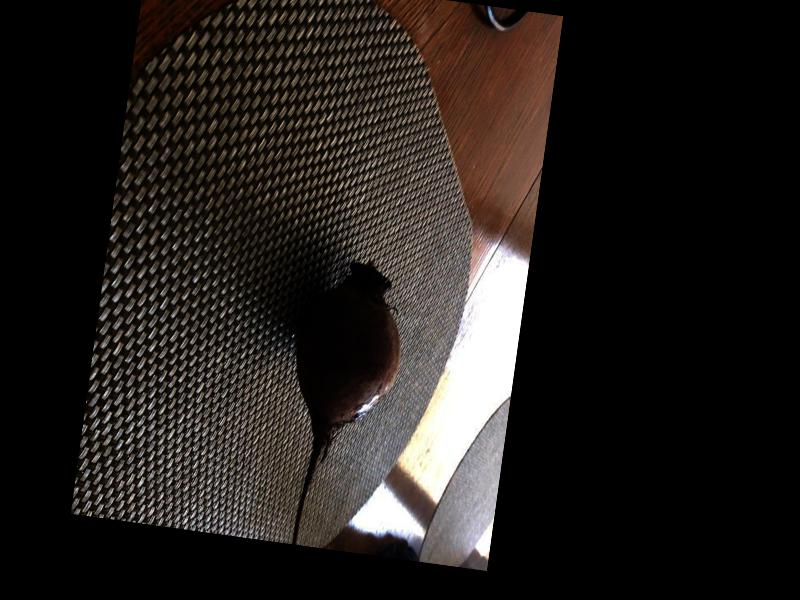Beet: (271, 255, 411, 552)
